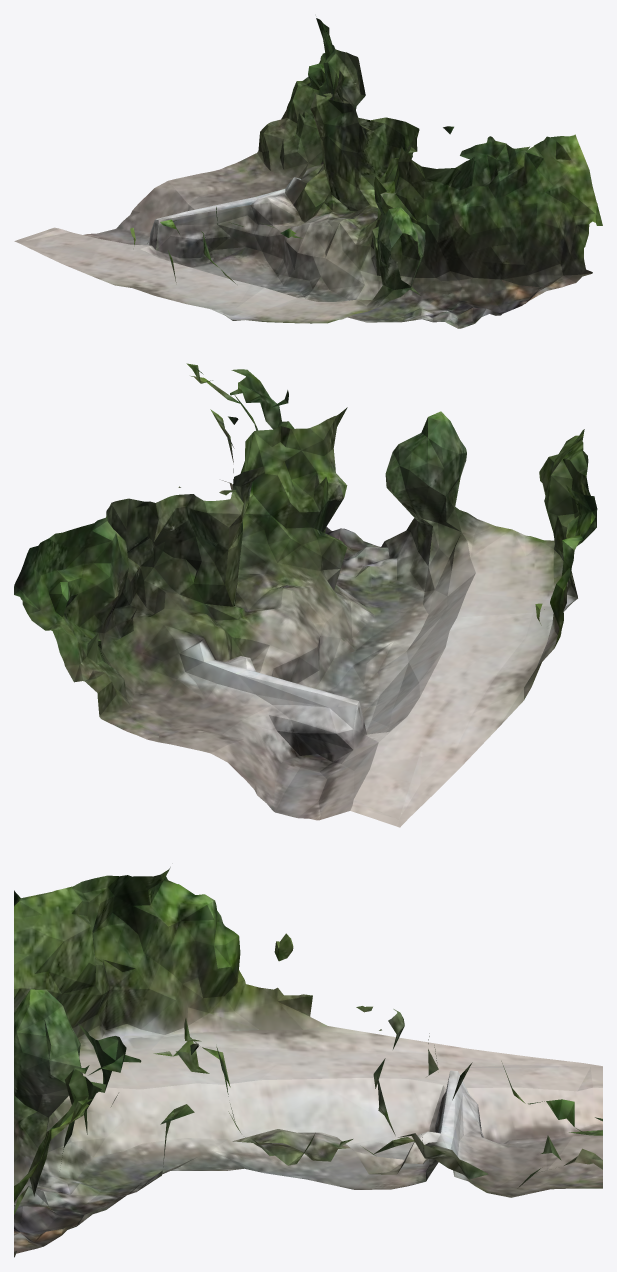
3 renders of one model, top to bottom at view 1: azimuth 30°, elevation 25°; view 2: azimuth 150°, elevation 25°; view 3: azimuth 270°, elevation 25°, orthographic. The views are drawn at different scales.
Bounding box in the file's own units: 26.11 × 11.11 × 26.11.
3 materials, 3 textured.
